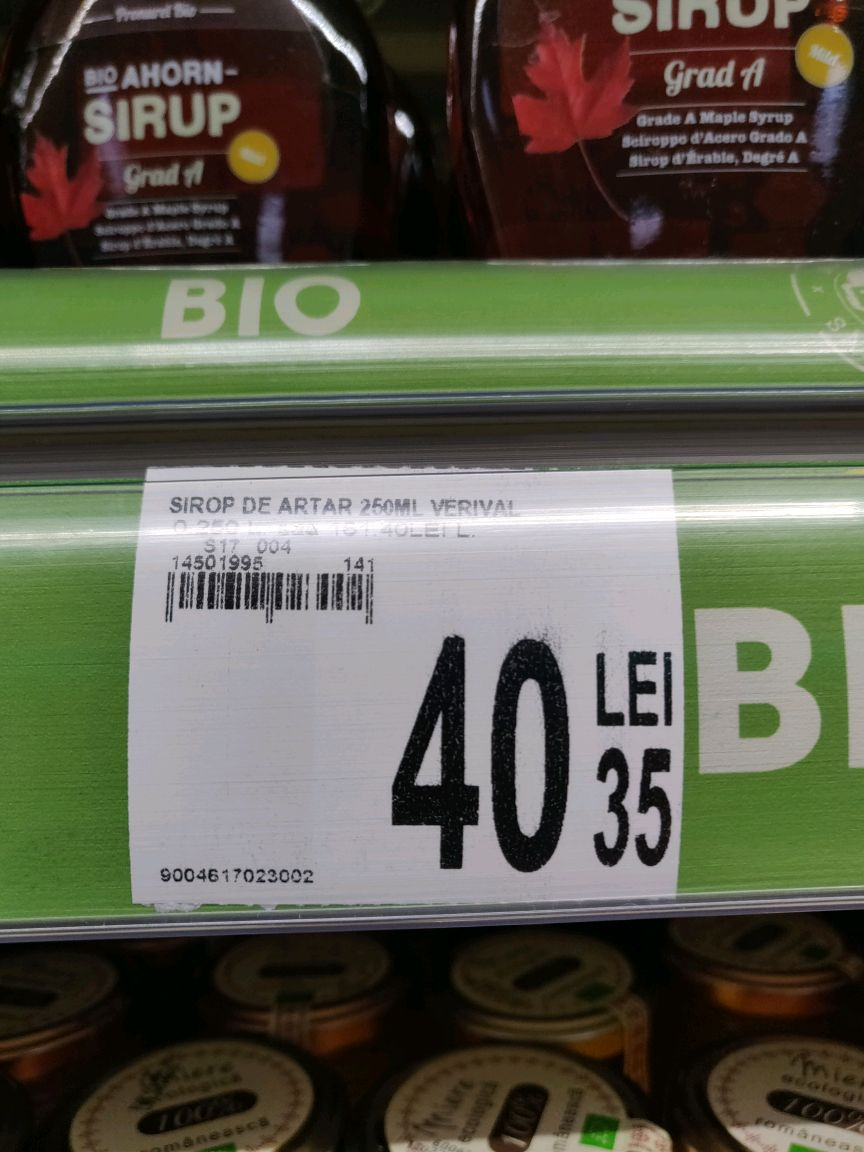price_bani: (588, 740, 680, 876)
price_lei: (375, 629, 579, 880)
price_tag: (119, 462, 691, 911)
product_id: (150, 857, 326, 898)
product_name: (153, 489, 523, 520)
